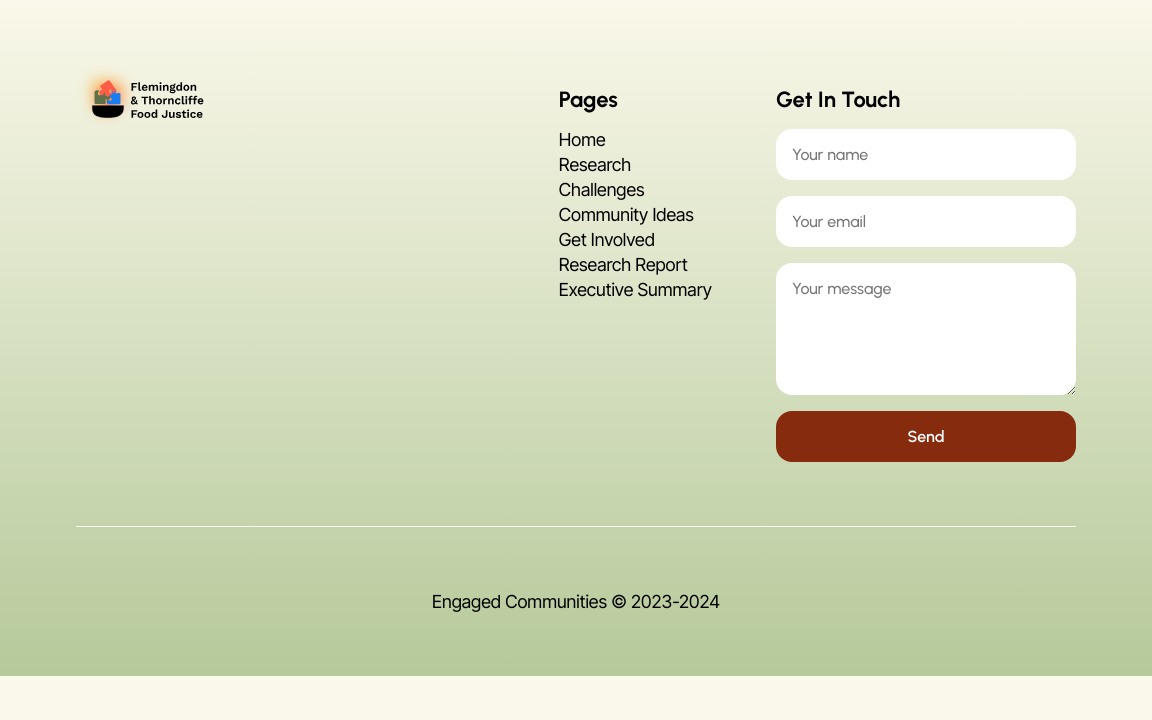
Test case: Footer › should show "Message submitted." after form submission
In the field with placeholder "Your name": coordinates (926, 154) left=776, top=129, right=1076, bottom=180, type "John Doe"
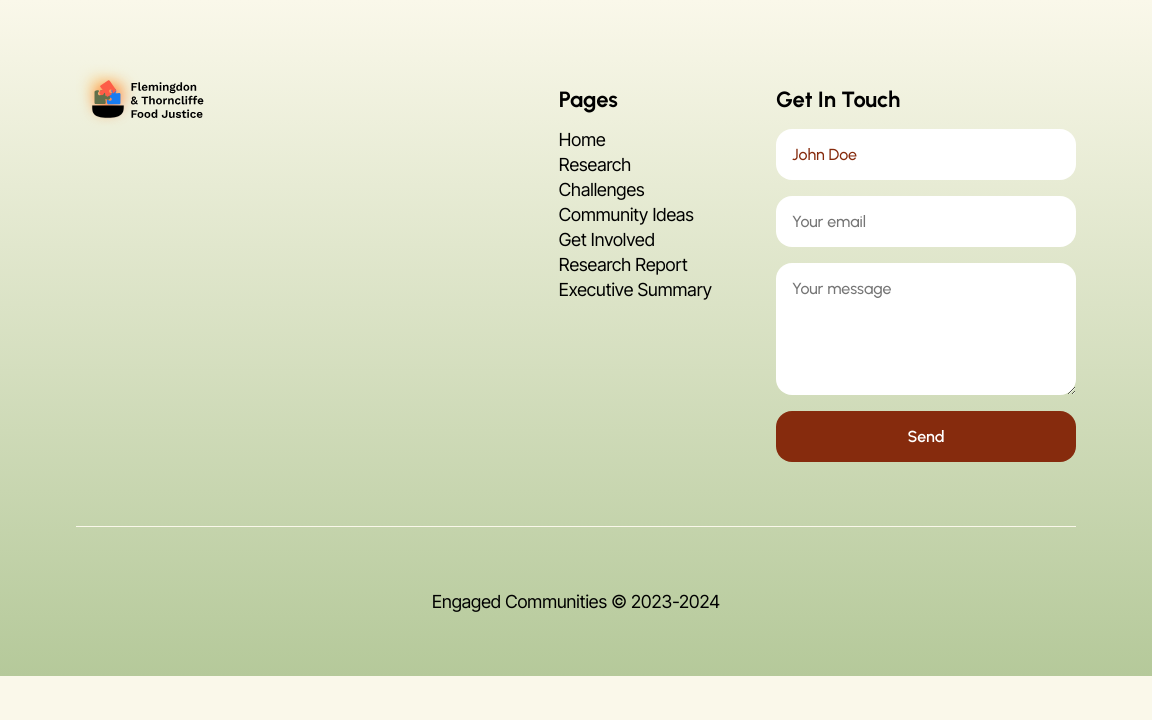
In the field with placeholder "Your email": coordinates (926, 222) left=776, top=196, right=1076, bottom=247, type "john.doe@example.com"
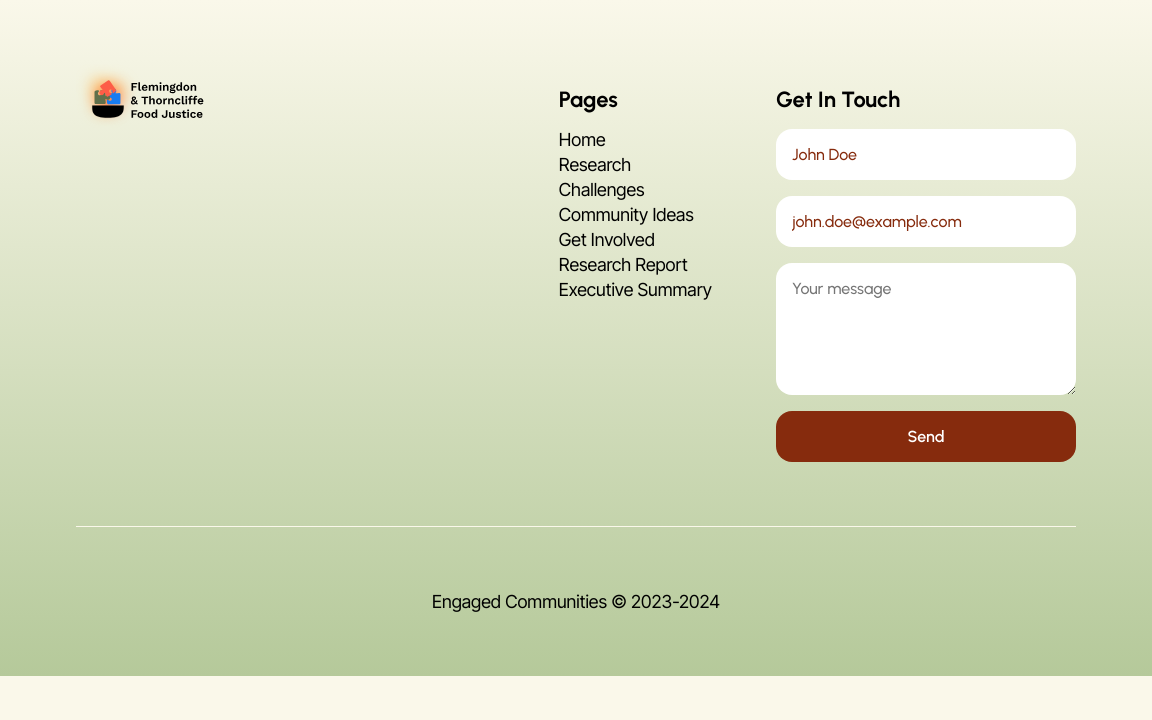
In the text box with placeholder "Your message": coordinates (926, 329) left=776, top=263, right=1076, bottom=395, type "Hello, world!"
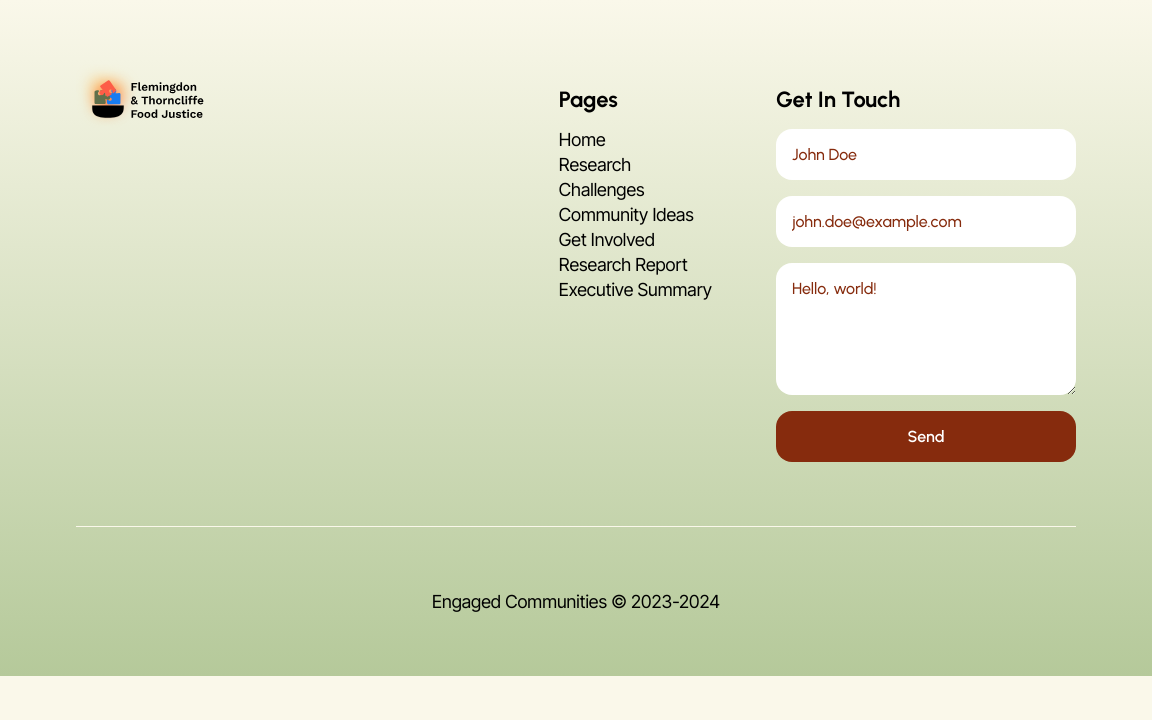
Click the button "Send": coordinates (926, 436) left=776, top=411, right=1076, bottom=462
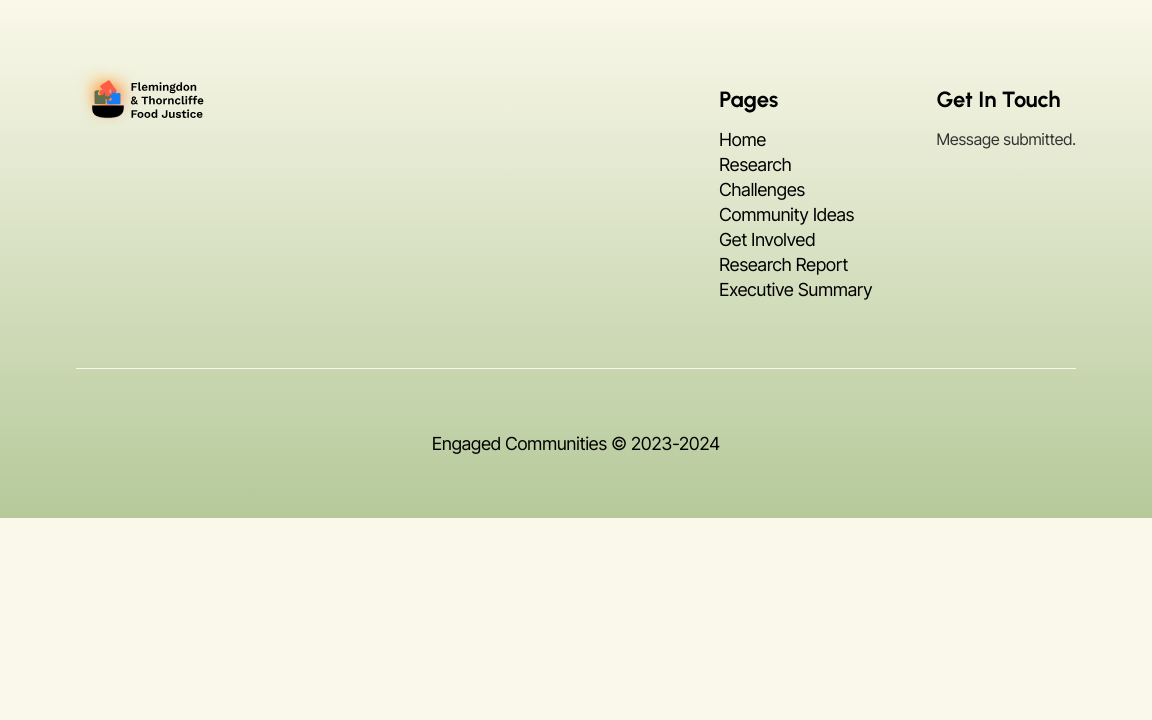
Now the text "Message submitted." is shown, box left=936, top=129, right=1076, bottom=149
